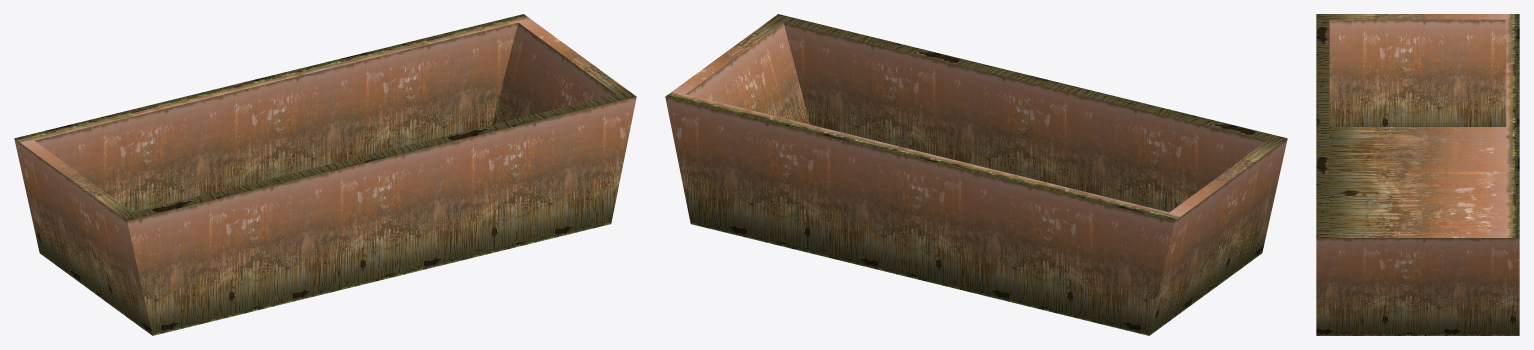
Rendered from garbage_container_lod1.fbx.
3 renders of one model, left to right at view 1: azimuth 30°, elevation 25°; view 2: azimuth 150°, elevation 25°; view 3: azimuth 270°, elevation 25°, orthographic. The views are drawn at different scales.
Parts seen in each view (by area): view 1: Mesh Object; view 2: Mesh Object; view 3: Mesh Object.
Part boxes in pixels (x1=…): Mesh Object: x1=14, y1=14, x2=636, y2=335; Mesh Object: x1=665, y1=14, x2=1287, y2=335; Mesh Object: x1=1316, y1=14, x2=1519, y2=335.
Size of the model in its own units: 9.9 by 2.25 by 3.8.
